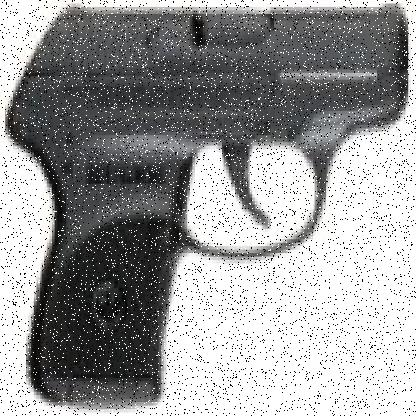pistol: (8, 3, 403, 409)
